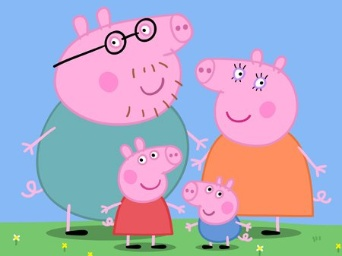Peppa: (99, 137, 185, 250)
